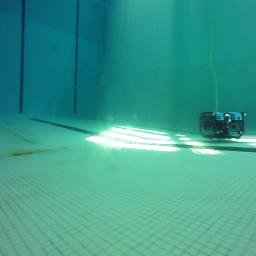front: (200, 111, 246, 140)
